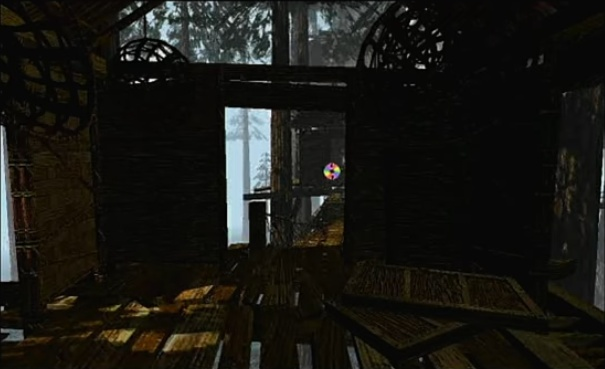Waiting: (320, 160, 343, 181)
